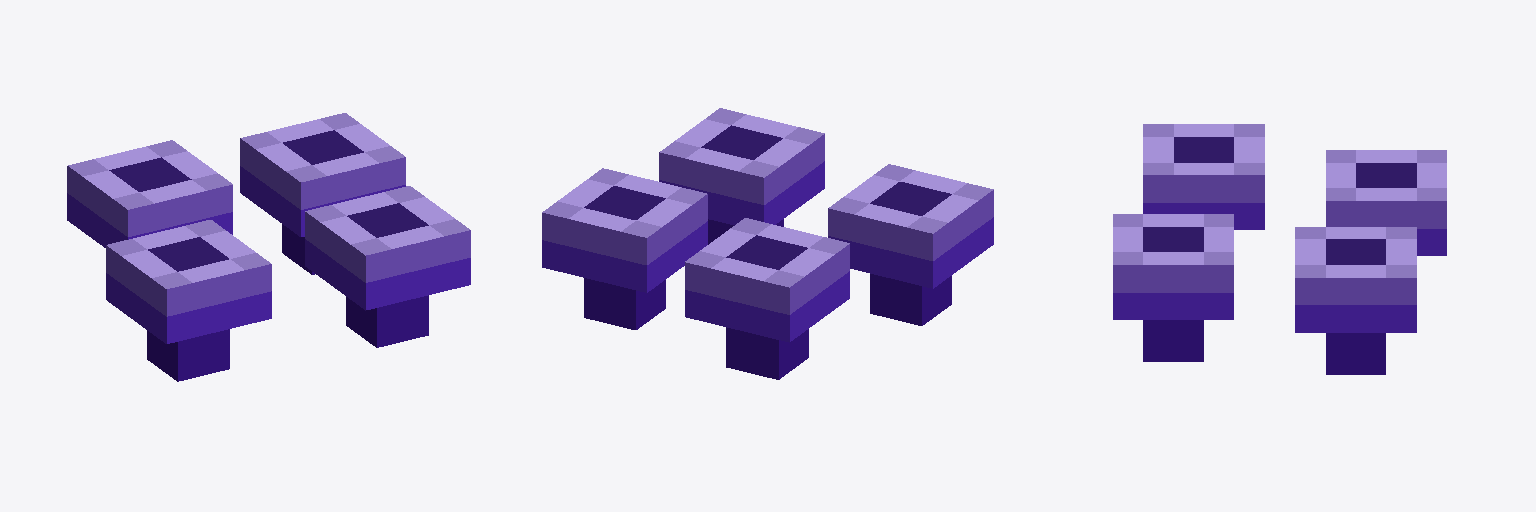
3 renders of one model, left to right at view 1: azimuth 30°, elevation 25°; view 2: azimuth 150°, elevation 25°; view 3: azimuth 270°, elevation 25°, orthographic.
Visible parts, largest first — view 1: cube; view 2: cube; view 3: cube.
Part boxes in pixels (bbox=[...]): cube: bbox=[67, 113, 470, 381]; cube: bbox=[542, 108, 993, 379]; cube: bbox=[1113, 124, 1446, 374].
Size of the model in its own units: 0.75 by 0.25 by 0.6875.
Materials: 1 (1 with a texture image).